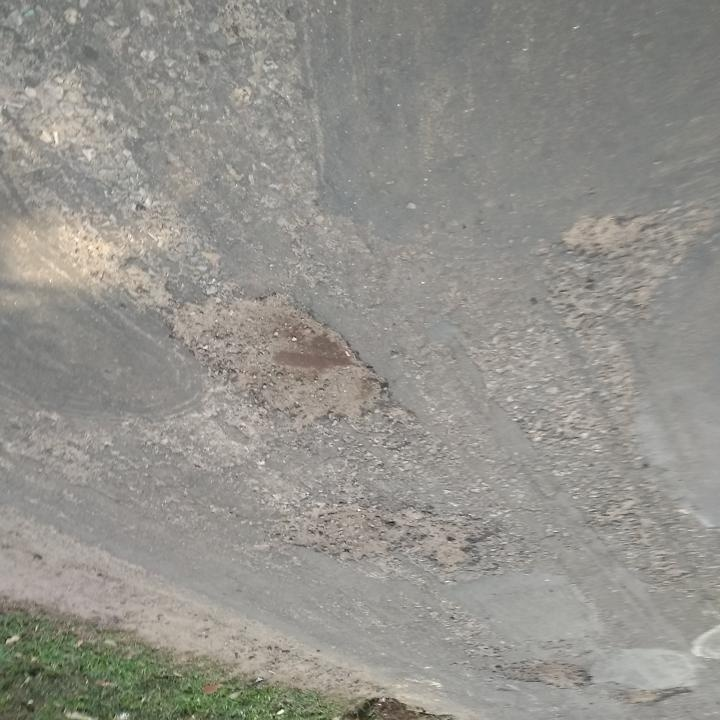pothole: (158, 287, 395, 433), (268, 501, 498, 571), (489, 654, 593, 693), (617, 680, 692, 709)
